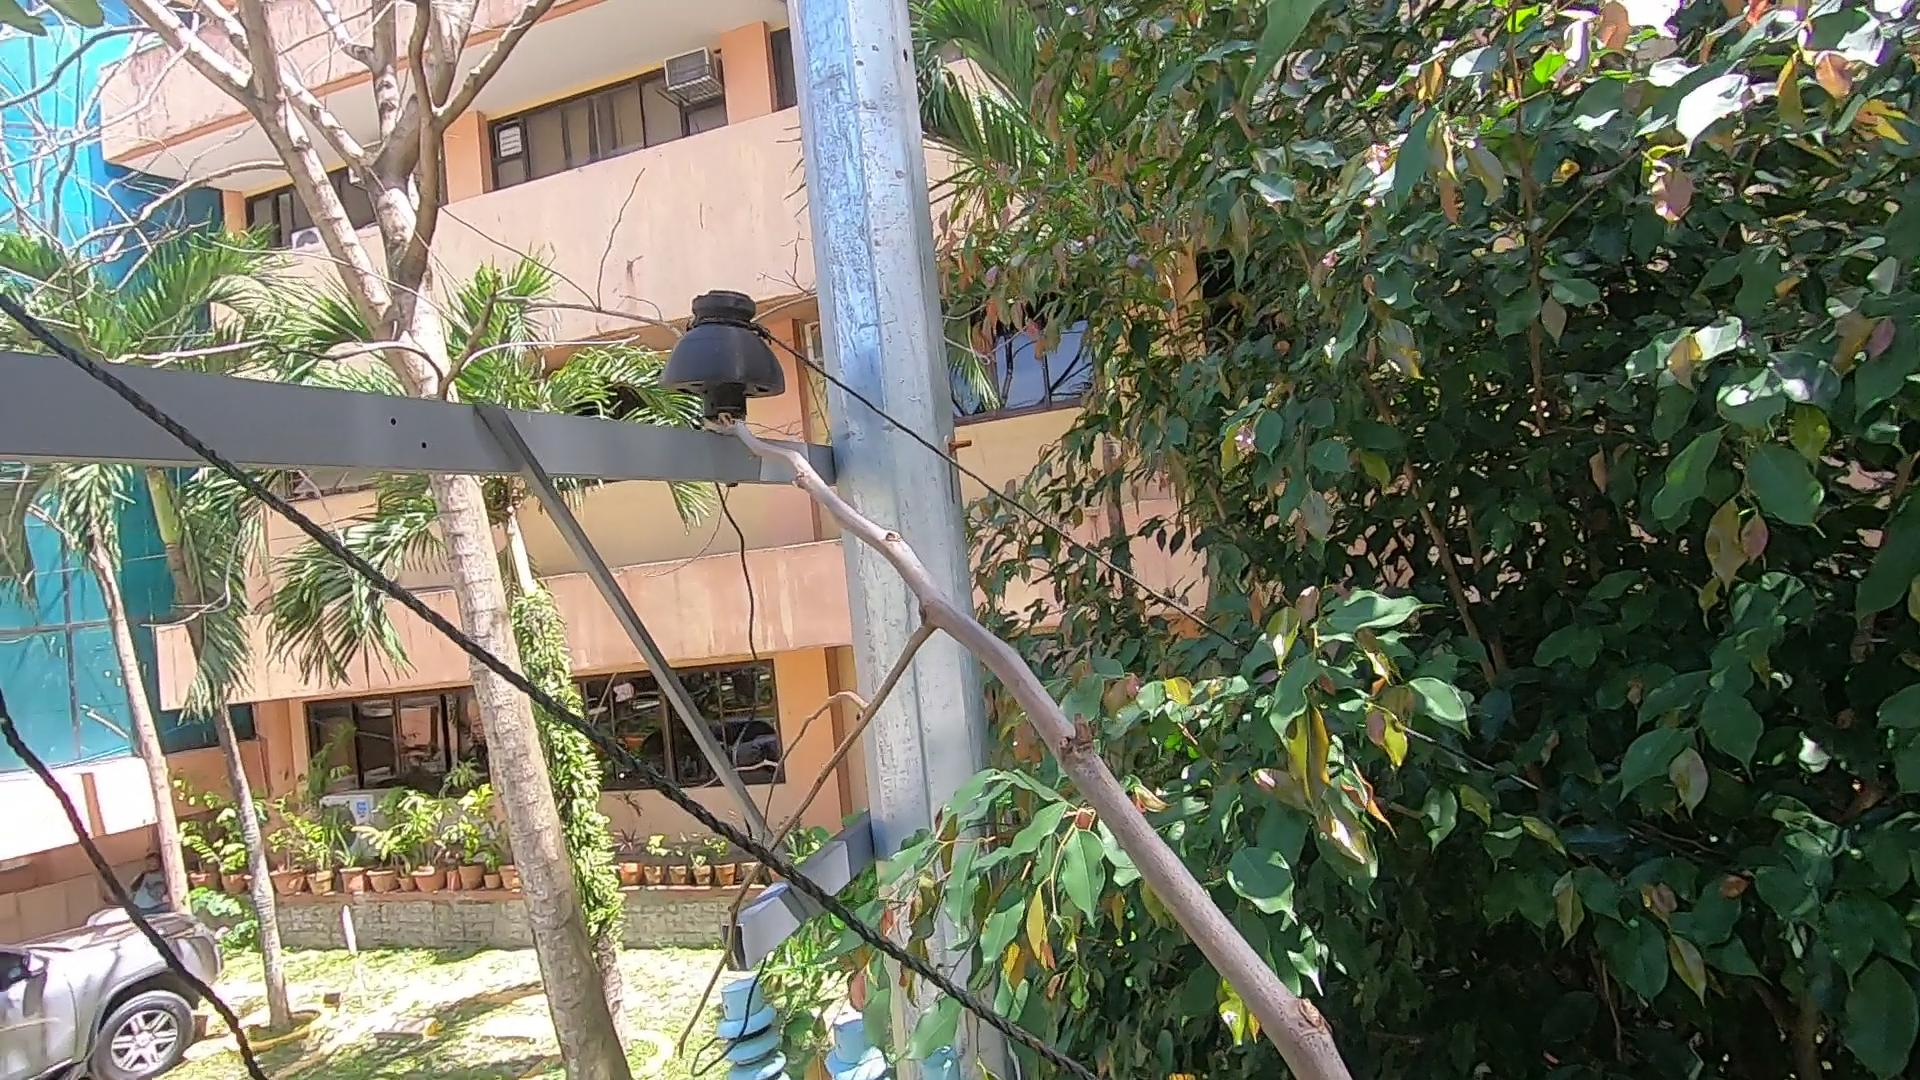branch with leaves: (795, 816, 1106, 1076)
tree branch: (640, 290, 1356, 1080)
